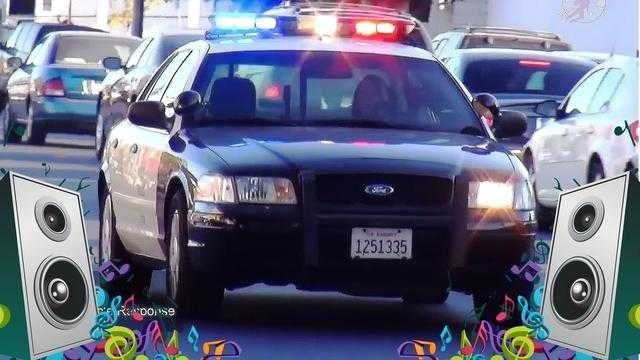Police Car: (125, 23, 527, 314)
